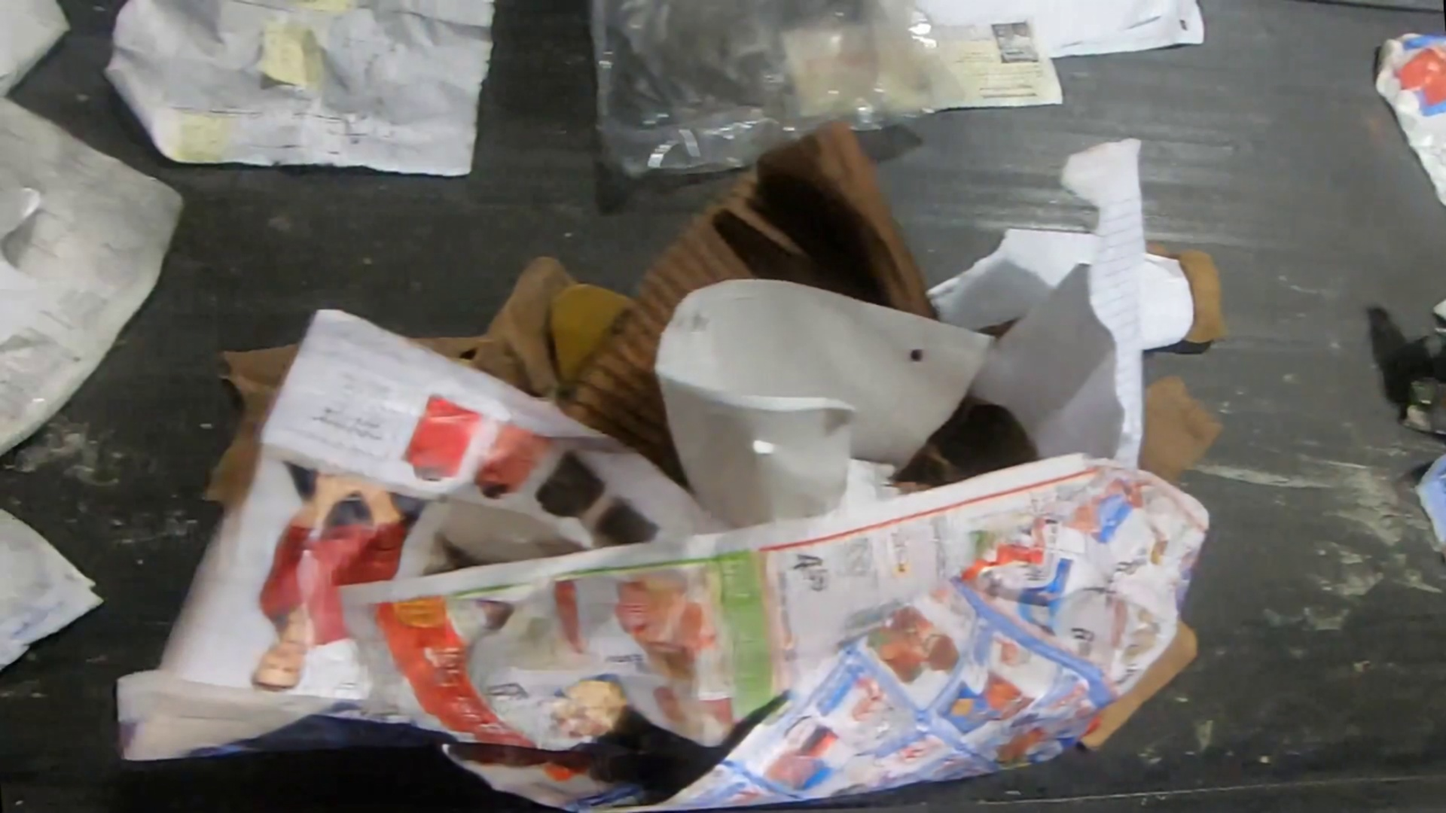cardboard: (561, 123, 936, 488), (405, 253, 571, 407), (1074, 616, 1203, 755), (198, 345, 297, 508), (888, 396, 1033, 493), (1140, 373, 1227, 488), (1147, 241, 1228, 346), (1392, 329, 1446, 438)
plastic: (586, 0, 969, 185), (0, 111, 195, 464), (545, 279, 646, 383)
